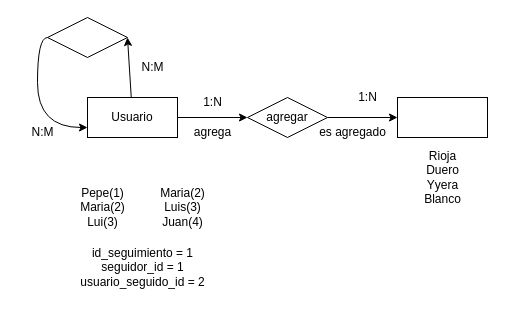
This 505x315 diagram has some shape labels left out. The box of each missing label's shape, as (x1, y1, x2, y2) in pixels:
seguimiento: (46, 16, 128, 58)
Vino: (396, 96, 488, 138)
